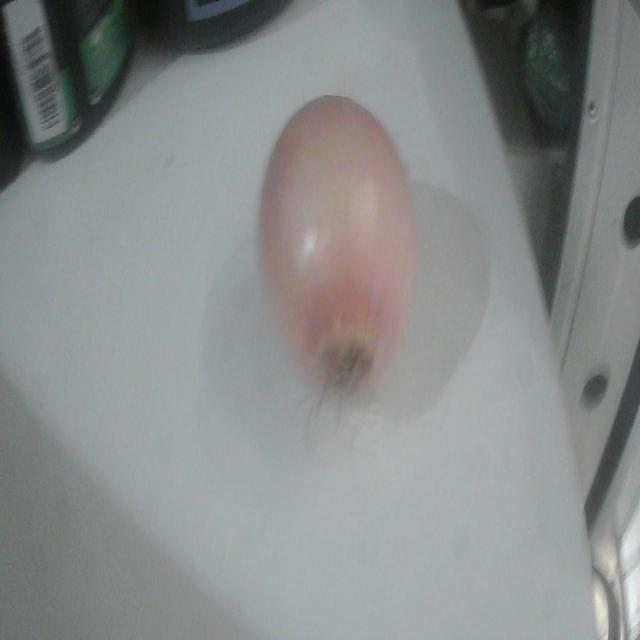Onion: (260, 98, 416, 393)
